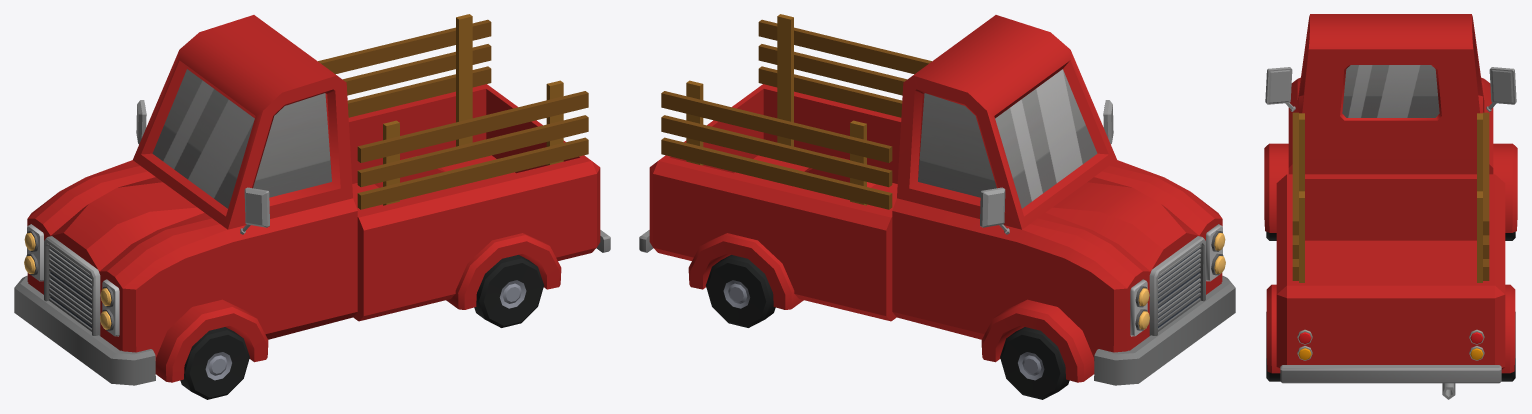
Rendered from Car_12_B.gltf.
The picture shows the model from 3 angles, left to right: view 1: azimuth 30°, elevation 25°; view 2: azimuth 150°, elevation 25°; view 3: azimuth 270°, elevation 25°; orthographic projection. The views are drawn at different scales.
Visible parts, largest first — view 1: Car_12_B, RL, FL; view 2: Car_12_B, RR, FR; view 3: Car_12_B.
Part boxes in pixels (x1,y1,x2,y2): Car_12_B: (14, 14, 610, 385); RL: (474, 255, 544, 327); FL: (180, 327, 249, 399); Car_12_B: (639, 14, 1235, 385); RR: (705, 255, 775, 327); FR: (1000, 327, 1069, 399); Car_12_B: (1264, 14, 1517, 399).
Bounding box in the file's own units: 3.82 × 2.01 × 1.73.
4 materials, 4 textured.
